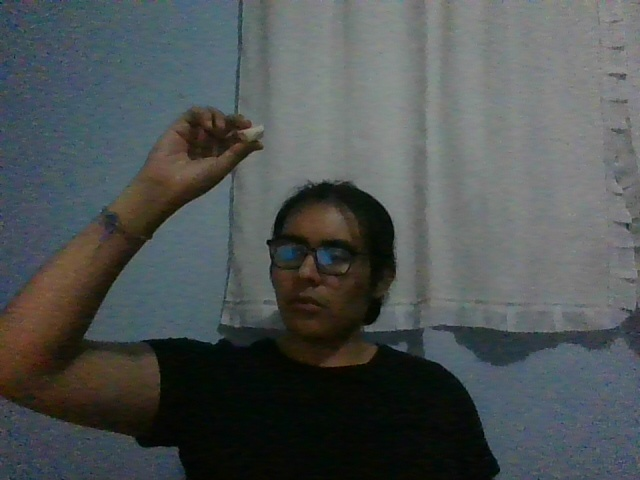goma: (238, 124, 265, 141)
